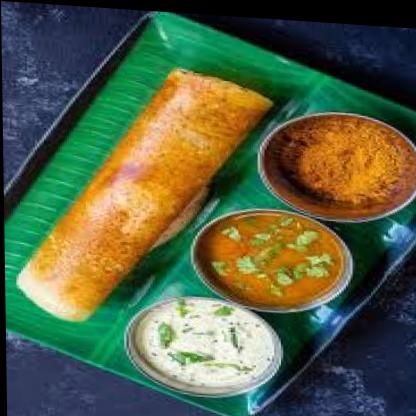dosa: (13, 56, 274, 330)
